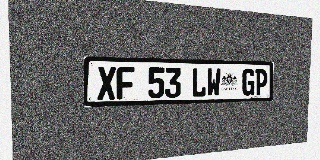3: (165, 67, 181, 98)
5: (148, 67, 165, 98)
F: (117, 67, 134, 99)
G: (242, 69, 255, 96)
L: (191, 68, 206, 97)
P: (255, 69, 267, 96)
W: (206, 68, 221, 97)
X: (97, 66, 116, 100)
